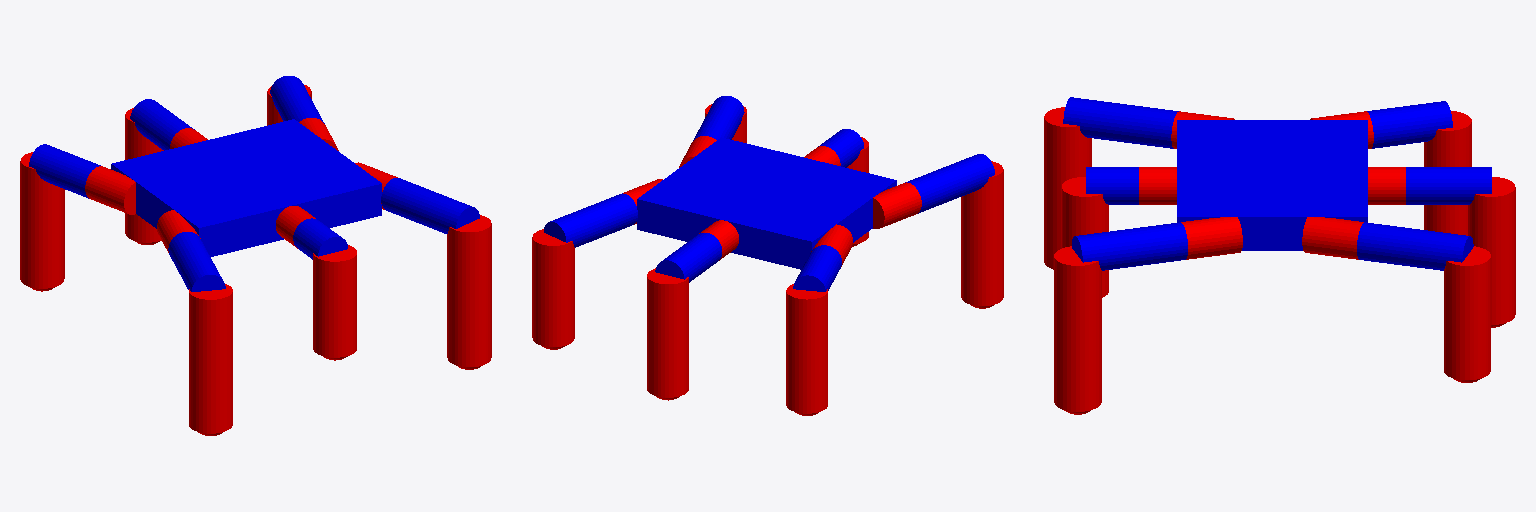
--- Render facts (derived) ---
3 views of the same robot in one strip: view 1: azimuth 30°, elevation 25°; view 2: azimuth 150°, elevation 25°; view 3: azimuth 270°, elevation 25° (orthographic).
Model pexod with 19 links and 18 joints (18 revolute), rooted at base_link, posed all joints at 0.
Visible links, largest first — view 1: base_link, leg_3_3, leg_5_3, leg_0_3, leg_4_3, leg_3_2, leg_5_2, leg_0_2, leg_0_1, leg_1_2, leg_1_3, leg_2_2 (+3 smaller); view 2: base_link, leg_5_3, leg_0_3, leg_1_3, leg_2_3, leg_2_2, leg_5_2, leg_1_2, leg_5_1, leg_0_2, leg_3_2, leg_4_2 (+2 smaller); view 3: base_link, leg_3_3, leg_2_3, leg_1_3, leg_5_3, leg_2_2, leg_3_2, leg_5_2, leg_0_3, leg_1_2, leg_0_2, leg_4_3 (+5 smaller).
Boxes of the visible links, x1,y1,x2,y2 form: base_link: [111, 119, 381, 256]; leg_3_3: [447, 215, 491, 369]; leg_5_3: [189, 284, 232, 435]; leg_0_3: [20, 152, 64, 291]; leg_4_3: [313, 245, 356, 360]; leg_3_2: [381, 178, 479, 233]; leg_5_2: [168, 232, 225, 291]; leg_0_2: [29, 144, 100, 198]; leg_0_1: [85, 166, 135, 214]; leg_1_2: [130, 99, 194, 150]; leg_1_3: [125, 108, 163, 244]; leg_2_2: [270, 76, 324, 123]; base_link: [637, 137, 896, 269]; leg_5_3: [961, 161, 1003, 308]; leg_0_3: [786, 284, 827, 415]; leg_1_3: [647, 268, 688, 400]; leg_2_3: [532, 229, 574, 349]; leg_2_2: [544, 193, 637, 247]; leg_5_2: [905, 154, 994, 213]; leg_1_2: [655, 233, 721, 282]; leg_5_1: [873, 182, 921, 228]; leg_0_2: [793, 245, 841, 291]; leg_3_2: [693, 96, 744, 140]; leg_4_2: [818, 129, 863, 167]; base_link: [1177, 120, 1367, 250]; leg_3_3: [1054, 246, 1101, 414]; leg_2_3: [1444, 246, 1490, 382]; leg_1_3: [1468, 177, 1515, 327]; leg_5_3: [1044, 107, 1091, 269]; leg_2_2: [1357, 222, 1473, 270]; leg_3_2: [1072, 222, 1187, 270]; leg_5_2: [1063, 97, 1178, 148]; leg_0_3: [1424, 111, 1471, 235]; leg_1_2: [1406, 167, 1491, 204]; leg_0_2: [1367, 101, 1452, 148]; leg_4_3: [1062, 177, 1108, 297].
Bounding box of the posed robot: 0.3946 × 0.4942 × 0.2014 m (x, y, z).
Geometry: primitives only (box / cylinder / sphere), no mesh files.

robot.urdf — pexod:
<?xml version="1.0" ?>
<!-- =================================================================================== -->
<!-- |    This document was autogenerated by xacro from pexod.xacro                    | -->
<!-- |    EDITING THIS FILE BY HAND IS NOT RECOMMENDED                                 | -->
<!-- =================================================================================== -->
<robot name="pexod" xmlns:xacro="http://www.ros.org/wiki/xacro">
  <!-- <xacro:include filename="$(find pexod_description)/urdf/pexod_control.xacro" /> -->
  <!-- MATERIALS -->
  <material name="Blue">
    <color rgba="0 0 1 1"/>
  </material>
  <material name="Red">
    <color rgba="1 0 0 1"/>
  </material>
  <material name="Green">
    <color rgba="0 1 0 1"/>
  </material>
  <material name="Yellow">
    <color rgba="1 1 0 1"/>
  </material>
  <material name="LightGrey">
    <color rgba="0.6 0.6 0.6 1.0"/>
  </material>
  <!-- END OF MATERIALS -->
  <!-- XACRO MACROS FOR VISUALS AND COLLISIONS -->
  <!-- END OF XACRO MACROS -->
  <!-- TORSO -->
  <link name="base_link">
    <visual>
      <origin rpy="0 0 0" xyz="0 0 0"/>
      <geometry>
        <box size="0.24 0.2 0.04"/>
      </geometry>
      <material name="Blue"/>
    </visual>
    <collision>
      <origin rpy="0 0 0" xyz="0 0 0"/>
      <geometry>
        <box size="0.24 0.2 0.04"/>
      </geometry>
    </collision>
    <inertial>
      <!-- CENTER OF MASS -->
      <origin rpy="0 0 0" xyz="0 0 0"/>
      <mass value="1.031"/>
      <!-- box inertia: 1/12*m(y^2+z^2), ... -->
      <inertia ixx="0.00357413333333" ixy="0" ixz="0" iyy="0.00508626666667" iyz="0" izz="0.00838546666667"/>
    </inertial>
  </link>
  <!-- XACRO MACRO FOR LEGS LINKS/JOINTS -->
  <!-- END OF LEG LINKS/JOINTS -->
  <joint name="body_leg_2" type="revolute">
    <parent link="base_link"/>
    <child link="leg_2_1"/>
    <limit effort="30.0" lower="-1.57079632679" upper="1.57079632679" velocity="7.0"/>
    <origin rpy="0 0 -0.3" xyz="0.11 0.04 0"/>
    <!-- <xacro:if value="${index == 5 or index == 4 or index == 3}">
                <axis xyz="0 0 1"/>
            </xacro:if>
            <xacro:if value="${index == 2 or index == 1 or index == 0}"> -->
    <axis xyz="0 0 1"/>
    <!-- </xacro:if> -->
    <dynamics damping="0.0"/>
  </joint>
  <link name="leg_2_1">
    <visual>
      <origin rpy="1.57079632679 0 0" xyz="0.01 0.03 0"/>
      <geometry>
        <cylinder length="0.06" radius="0.02"/>
      </geometry>
      <material name="Red"/>
    </visual>
    <collision>
      <origin rpy="1.57079632679 0 0" xyz="0.01 0.03 0"/>
      <geometry>
        <box size="0.02 0.02 0.06"/>
      </geometry>
    </collision>
    <inertial>
      <!-- CENTER OF MASS -->
      <origin rpy="1.57079632679 0 0" xyz="0.01 0.03 0"/>
      <mass value="0.02"/>
      <!-- box inertia: 1/12*m(y^2+z^2), ... -->
      <inertia ixx="6.66666666667e-06" ixy="0" ixz="0" iyy="6.66666666667e-06" iyz="0" izz="1.33333333333e-06"/>
    </inertial>
  </link>
  <joint name="leg_2_1_2" type="revolute">
    <parent link="leg_2_1"/>
    <child link="leg_2_2"/>
    <limit effort="30.0" lower="-0.78539816339" upper="0.78539816339" velocity="7.0"/>
    <origin rpy="0 0 0" xyz="0 0.06 0"/>
    <axis xyz="1 0 0"/>
    <dynamics damping="0.0"/>
  </joint>
  <link name="leg_2_2">
    <visual>
      <origin rpy="1.57079632679 0 0" xyz="0.01 0.057911748355 0"/>
      <geometry>
        <cylinder length="0.11582349671" radius="0.02"/>
      </geometry>
      <material name="Blue"/>
    </visual>
    <collision>
      <origin rpy="1.57079632679 0 0" xyz="0.01 0.057911748355 0"/>
      <geometry>
        <box size="0.02 0.02 0.11582349671"/>
      </geometry>
    </collision>
    <inertial>
      <!-- CENTER OF MASS -->
      <origin rpy="1.57079632679 0 0" xyz="0.01 0.057911748355 0"/>
      <mass value="0.184"/>
      <!-- box inertia: 1/12*m(y^2+z^2), ... -->
      <inertia ixx="0.000211831263315" ixy="0" ixz="0" iyy="0.000211831263315" iyz="0" izz="1.22666666667e-05"/>
    </inertial>
  </link>
  <joint name="leg_2_2_3" type="revolute">
    <parent link="leg_2_2"/>
    <child link="leg_2_3"/>
    <limit effort="30.0" lower="-0.78539816339" upper="0.78539816339" velocity="7.0"/>
    <origin rpy="-1.57079632679 0 0" xyz="0 0.11582349671 0"/>
    <axis xyz="-1 0 0"/>
    <dynamics damping="0.0"/>
  </joint>
  <link name="leg_2_3">
    <visual>
      <origin rpy="1.57079632679 0 0" xyz="0.0125 0.0662564448815 0"/>
      <geometry>
        <cylinder length="0.132512889763" radius="0.025"/>
      </geometry>
      <material name="Red"/>
    </visual>
    <visual>
      <origin rpy="1.57079632679 0 0" xyz="0.0125 0.120012889763 0"/>
      <geometry>
        <sphere radius="0.025"/>
      </geometry>
      <material name="Red"/>
    </visual>
    <collision>
      <origin rpy="1.57079632679 0 0" xyz="0.0125 0.0662564448815 0"/>
      <geometry>
        <box size="0.025 0.025 0.132512889763"/>
      </geometry>
    </collision>
    <collision>
      <origin rpy="1.57079632679 0 0" xyz="0.0125 0.120012889763 0"/>
      <geometry>
        <sphere radius="0.025"/>
      </geometry>
      <material name="Red"/>
    </collision>
    <inertial>
      <!-- CENTER OF MASS -->
      <origin rpy="1.57079632679 0 0" xyz="0.0125 0.0662564448815 0"/>
      <mass value="0.04"/>
      <!-- box inertia: 1/12*m(y^2+z^2), ... -->
      <inertia ixx="6.06155531778e-05" ixy="0" ixz="0" iyy="6.06155531778e-05" iyz="0" izz="4.16666666667e-06"/>
    </inertial>
  </link>
  <joint name="body_leg_3" type="revolute">
    <parent link="base_link"/>
    <child link="leg_3_1"/>
    <limit effort="30.0" lower="-1.57079632679" upper="1.57079632679" velocity="7.0"/>
    <origin rpy="0 0 0.3" xyz="0.11 -0.04 0"/>
    <!-- <xacro:if value="${index == 5 or index == 4 or index == 3}">
                <axis xyz="0 0 1"/>
            </xacro:if>
            <xacro:if value="${index == 2 or index == 1 or index == 0}"> -->
    <axis xyz="0 0 1"/>
    <!-- </xacro:if> -->
    <dynamics damping="0.0"/>
  </joint>
  <link name="leg_3_1">
    <visual>
      <origin rpy="1.57079632679 0 0" xyz="0.01 -0.03 0"/>
      <geometry>
        <cylinder length="0.06" radius="0.02"/>
      </geometry>
      <material name="Red"/>
    </visual>
    <collision>
      <origin rpy="1.57079632679 0 0" xyz="0.01 -0.03 0"/>
      <geometry>
        <box size="0.02 0.02 0.06"/>
      </geometry>
    </collision>
    <inertial>
      <!-- CENTER OF MASS -->
      <origin rpy="1.57079632679 0 0" xyz="0.01 -0.03 0"/>
      <mass value="0.02"/>
      <!-- box inertia: 1/12*m(y^2+z^2), ... -->
      <inertia ixx="6.66666666667e-06" ixy="0" ixz="0" iyy="6.66666666667e-06" iyz="0" izz="1.33333333333e-06"/>
    </inertial>
  </link>
  <joint name="leg_3_1_2" type="revolute">
    <parent link="leg_3_1"/>
    <child link="leg_3_2"/>
    <limit effort="30.0" lower="-0.78539816339" upper="0.78539816339" velocity="7.0"/>
    <origin rpy="0 0 0" xyz="0 -0.06 0"/>
    <axis xyz="-1 0 0"/>
    <dynamics damping="0.0"/>
  </joint>
  <link name="leg_3_2">
    <visual>
      <origin rpy="1.57079632679 0 0" xyz="0.01 -0.0578931832585 0"/>
      <geometry>
        <cylinder length="0.115786366517" radius="0.02"/>
      </geometry>
      <material name="Blue"/>
    </visual>
    <collision>
      <origin rpy="1.57079632679 0 0" xyz="0.01 -0.0578931832585 0"/>
      <geometry>
        <box size="0.02 0.02 0.115786366517"/>
      </geometry>
    </collision>
    <inertial>
      <!-- CENTER OF MASS -->
      <origin rpy="1.57079632679 0 0" xyz="0.01 -0.0578931832585 0"/>
      <mass value="0.184"/>
      <!-- box inertia: 1/12*m(y^2+z^2), ... -->
      <inertia ixx="0.000211699400959" ixy="0" ixz="0" iyy="0.000211699400959" iyz="0" izz="1.22666666667e-05"/>
    </inertial>
  </link>
  <joint name="leg_3_2_3" type="revolute">
    <parent link="leg_3_2"/>
    <child link="leg_3_3"/>
    <limit effort="30.0" lower="-0.78539816339" upper="0.78539816339" velocity="7.0"/>
    <origin rpy="1.57079632679 0 0" xyz="0 -0.115786366517 0"/>
    <axis xyz="1 0 0"/>
    <dynamics damping="0.0"/>
  </joint>
  <link name="leg_3_3">
    <visual>
      <origin rpy="1.57079632679 0 0" xyz="0.0125 -0.084473173369 0"/>
      <geometry>
        <cylinder length="0.168946346738" radius="0.025"/>
      </geometry>
      <material name="Red"/>
    </visual>
    <visual>
      <origin rpy="1.57079632679 0 0" xyz="0.0125 -0.156446346738 0"/>
      <geometry>
        <sphere radius="0.025"/>
      </geometry>
      <material name="Red"/>
    </visual>
    <collision>
      <origin rpy="1.57079632679 0 0" xyz="0.0125 -0.084473173369 0"/>
      <geometry>
        <box size="0.025 0.025 0.168946346738"/>
      </geometry>
    </collision>
    <collision>
      <origin rpy="1.57079632679 0 0" xyz="0.0125 -0.156446346738 0"/>
      <geometry>
        <sphere radius="0.025"/>
      </geometry>
      <material name="Red"/>
    </collision>
    <inertial>
      <!-- CENTER OF MASS -->
      <origin rpy="1.57079632679 0 0" xyz="0.0125 -0.084473173369 0"/>
      <mass value="0.04"/>
      <!-- box inertia: 1/12*m(y^2+z^2), ... -->
      <inertia ixx="9.72262269204e-05" ixy="0" ixz="0" iyy="9.72262269204e-05" iyz="0" izz="4.16666666667e-06"/>
    </inertial>
  </link>
  <joint name="body_leg_0" type="revolute">
    <parent link="base_link"/>
    <child link="leg_0_1"/>
    <limit effort="30.0" lower="-1.57079632679" upper="1.57079632679" velocity="7.0"/>
    <origin rpy="0 0 0.3" xyz="-0.13 0.04 0"/>
    <!-- <xacro:if value="${index == 5 or index == 4 or index == 3}">
                <axis xyz="0 0 1"/>
            </xacro:if>
            <xacro:if value="${index == 2 or index == 1 or index == 0}"> -->
    <axis xyz="0 0 1"/>
    <!-- </xacro:if> -->
    <dynamics damping="0.0"/>
  </joint>
  <link name="leg_0_1">
    <visual>
      <origin rpy="1.57079632679 0 0" xyz="0.01 0.03 0"/>
      <geometry>
        <cylinder length="0.06" radius="0.02"/>
      </geometry>
      <material name="Red"/>
    </visual>
    <collision>
      <origin rpy="1.57079632679 0 0" xyz="0.01 0.03 0"/>
      <geometry>
        <box size="0.02 0.02 0.06"/>
      </geometry>
    </collision>
    <inertial>
      <!-- CENTER OF MASS -->
      <origin rpy="1.57079632679 0 0" xyz="0.01 0.03 0"/>
      <mass value="0.02"/>
      <!-- box inertia: 1/12*m(y^2+z^2), ... -->
      <inertia ixx="6.66666666667e-06" ixy="0" ixz="0" iyy="6.66666666667e-06" iyz="0" izz="1.33333333333e-06"/>
    </inertial>
  </link>
  <joint name="leg_0_1_2" type="revolute">
    <parent link="leg_0_1"/>
    <child link="leg_0_2"/>
    <limit effort="30.0" lower="-0.78539816339" upper="0.78539816339" velocity="7.0"/>
    <origin rpy="0 0 0" xyz="0 0.06 0"/>
    <axis xyz="1 0 0"/>
    <dynamics damping="0.0"/>
  </joint>
  <link name="leg_0_2">
    <visual>
      <origin rpy="1.57079632679 0 0" xyz="0.01 0.0434274066274 0"/>
      <geometry>
        <cylinder length="0.0868548132548" radius="0.02"/>
      </geometry>
      <material name="Blue"/>
    </visual>
    <collision>
      <origin rpy="1.57079632679 0 0" xyz="0.01 0.0434274066274 0"/>
      <geometry>
        <box size="0.02 0.02 0.0868548132548"/>
      </geometry>
    </collision>
    <inertial>
      <!-- CENTER OF MASS -->
      <origin rpy="1.57079632679 0 0" xyz="0.01 0.0434274066274 0"/>
      <mass value="0.184"/>
      <!-- box inertia: 1/12*m(y^2+z^2), ... -->
      <inertia ixx="0.000121804298311" ixy="0" ixz="0" iyy="0.000121804298311" iyz="0" izz="1.22666666667e-05"/>
    </inertial>
  </link>
  <joint name="leg_0_2_3" type="revolute">
    <parent link="leg_0_2"/>
    <child link="leg_0_3"/>
    <limit effort="30.0" lower="-0.78539816339" upper="0.78539816339" velocity="7.0"/>
    <origin rpy="-1.57079632679 0 0" xyz="0 0.0868548132548 0"/>
    <axis xyz="-1 0 0"/>
    <dynamics damping="0.0"/>
  </joint>
  <link name="leg_0_3">
    <visual>
      <origin rpy="1.57079632679 0 0" xyz="0.0125 0.074608938727 0"/>
      <geometry>
        <cylinder length="0.149217877454" radius="0.025"/>
      </geometry>
      <material name="Red"/>
    </visual>
    <visual>
      <origin rpy="1.57079632679 0 0" xyz="0.0125 0.136717877454 0"/>
      <geometry>
        <sphere radius="0.025"/>
      </geometry>
      <material name="Red"/>
    </visual>
    <collision>
      <origin rpy="1.57079632679 0 0" xyz="0.0125 0.074608938727 0"/>
      <geometry>
        <box size="0.025 0.025 0.149217877454"/>
      </geometry>
    </collision>
    <collision>
      <origin rpy="1.57079632679 0 0" xyz="0.0125 0.136717877454 0"/>
      <geometry>
        <sphere radius="0.025"/>
      </geometry>
      <material name="Red"/>
    </collision>
    <inertial>
      <!-- CENTER OF MASS -->
      <origin rpy="1.57079632679 0 0" xyz="0.0125 0.074608938727 0"/>
      <mass value="0.04"/>
      <!-- box inertia: 1/12*m(y^2+z^2), ... -->
      <inertia ixx="7.63032498396e-05" ixy="0" ixz="0" iyy="7.63032498396e-05" iyz="0" izz="4.16666666667e-06"/>
    </inertial>
  </link>
  <joint name="body_leg_5" type="revolute">
    <parent link="base_link"/>
    <child link="leg_5_1"/>
    <limit effort="30.0" lower="-1.57079632679" upper="1.57079632679" velocity="7.0"/>
    <origin rpy="0 0 -0.3" xyz="-0.13 -0.04 0"/>
    <!-- <xacro:if value="${index == 5 or index == 4 or index == 3}">
                <axis xyz="0 0 1"/>
            </xacro:if>
            <xacro:if value="${index == 2 or index == 1 or index == 0}"> -->
    <axis xyz="0 0 1"/>
    <!-- </xacro:if> -->
    <dynamics damping="0.0"/>
  </joint>
  <link name="leg_5_1">
    <visual>
      <origin rpy="1.57079632679 0 0" xyz="0.01 -0.03 0"/>
      <geometry>
        <cylinder length="0.06" radius="0.02"/>
      </geometry>
      <material name="Red"/>
    </visual>
    <collision>
      <origin rpy="1.57079632679 0 0" xyz="0.01 -0.03 0"/>
      <geometry>
        <box size="0.02 0.02 0.06"/>
      </geometry>
    </collision>
    <inertial>
      <!-- CENTER OF MASS -->
      <origin rpy="1.57079632679 0 0" xyz="0.01 -0.03 0"/>
      <mass value="0.02"/>
      <!-- box inertia: 1/12*m(y^2+z^2), ... -->
      <inertia ixx="6.66666666667e-06" ixy="0" ixz="0" iyy="6.66666666667e-06" iyz="0" izz="1.33333333333e-06"/>
    </inertial>
  </link>
  <joint name="leg_5_1_2" type="revolute">
    <parent link="leg_5_1"/>
    <child link="leg_5_2"/>
    <limit effort="30.0" lower="-0.78539816339" upper="0.78539816339" velocity="7.0"/>
    <origin rpy="0 0 0" xyz="0 -0.06 0"/>
    <axis xyz="-1 0 0"/>
    <dynamics damping="0.0"/>
  </joint>
  <link name="leg_5_2">
    <visual>
      <origin rpy="1.57079632679 0 0" xyz="0.01 -0.0593575693555 0"/>
      <geometry>
        <cylinder length="0.118715138711" radius="0.02"/>
      </geometry>
      <material name="Blue"/>
    </visual>
    <collision>
      <origin rpy="1.57079632679 0 0" xyz="0.01 -0.0593575693555 0"/>
      <geometry>
        <box size="0.02 0.02 0.118715138711"/>
      </geometry>
    </collision>
    <inertial>
      <!-- CENTER OF MASS -->
      <origin rpy="1.57079632679 0 0" xyz="0.01 -0.0593575693555 0"/>
      <mass value="0.184"/>
      <!-- box inertia: 1/12*m(y^2+z^2), ... -->
      <inertia ixx="0.000222230357107" ixy="0" ixz="0" iyy="0.000222230357107" iyz="0" izz="1.22666666667e-05"/>
    </inertial>
  </link>
  <joint name="leg_5_2_3" type="revolute">
    <parent link="leg_5_2"/>
    <child link="leg_5_3"/>
    <limit effort="30.0" lower="-0.78539816339" upper="0.78539816339" velocity="7.0"/>
    <origin rpy="1.57079632679 0 0" xyz="0 -0.118715138711 0"/>
    <axis xyz="1 0 0"/>
    <dynamics damping="0.0"/>
  </joint>
  <link name="leg_5_3">
    <visual>
      <origin rpy="1.57079632679 0 0" xyz="0.0125 -0.0837819628235 0"/>
      <geometry>
        <cylinder length="0.167563925647" radius="0.025"/>
      </geometry>
      <material name="Red"/>
    </visual>
    <visual>
      <origin rpy="1.57079632679 0 0" xyz="0.0125 -0.155063925647 0"/>
      <geometry>
        <sphere radius="0.025"/>
      </geometry>
      <material name="Red"/>
    </visual>
    <collision>
      <origin rpy="1.57079632679 0 0" xyz="0.0125 -0.0837819628235 0"/>
      <geometry>
        <box size="0.025 0.025 0.167563925647"/>
      </geometry>
    </collision>
    <collision>
      <origin rpy="1.57079632679 0 0" xyz="0.0125 -0.155063925647 0"/>
      <geometry>
        <sphere radius="0.025"/>
      </geometry>
      <material name="Red"/>
    </collision>
    <inertial>
      <!-- CENTER OF MASS -->
      <origin rpy="1.57079632679 0 0" xyz="0.0125 -0.0837819628235 0"/>
      <mass value="0.04"/>
      <!-- box inertia: 1/12*m(y^2+z^2), ... -->
      <inertia ixx="9.56755639274e-05" ixy="0" ixz="0" iyy="9.56755639274e-05" iyz="0" izz="4.16666666667e-06"/>
    </inertial>
  </link>
  <joint name="body_leg_1" type="revolute">
    <parent link="base_link"/>
    <child link="leg_1_1"/>
    <limit effort="30.0" lower="-1.57079632679" upper="1.57079632679" velocity="7.0"/>
    <origin rpy="0 0 0" xyz="-0.01 0.08 0"/>
    <!-- <xacro:if value="${index == 5 or index == 4 or index == 3}">
                <axis xyz="0 0 1"/>
            </xacro:if>
            <xacro:if value="${index == 2 or index == 1 or index == 0}"> -->
    <axis xyz="0 0 1"/>
    <!-- </xacro:if> -->
    <dynamics damping="0.0"/>
  </joint>
  <link name="leg_1_1">
    <visual>
      <origin rpy="1.57079632679 0 0" xyz="0.01 0.03 0"/>
      <geometry>
        <cylinder length="0.06" radius="0.02"/>
      </geometry>
      <material name="Red"/>
    </visual>
    <collision>
      <origin rpy="1.57079632679 0 0" xyz="0.01 0.03 0"/>
      <geometry>
        <box size="0.02 0.02 0.06"/>
      </geometry>
    </collision>
    <inertial>
      <!-- CENTER OF MASS -->
      <origin rpy="1.57079632679 0 0" xyz="0.01 0.03 0"/>
      <mass value="0.02"/>
      <!-- box inertia: 1/12*m(y^2+z^2), ... -->
      <inertia ixx="6.66666666667e-06" ixy="0" ixz="0" iyy="6.66666666667e-06" iyz="0" izz="1.33333333333e-06"/>
    </inertial>
  </link>
  <joint name="leg_1_1_2" type="revolute">
    <parent link="leg_1_1"/>
    <child link="leg_1_2"/>
    <limit effort="30.0" lower="-0.78539816339" upper="0.78539816339" velocity="7.0"/>
    <origin rpy="0 0 0" xyz="0 0.06 0"/>
    <axis xyz="1 0 0"/>
    <dynamics damping="0.0"/>
  </joint>
  <link name="leg_1_2">
    <visual>
      <origin rpy="1.57079632679 0 0" xyz="0.01 0.0449315056685 0"/>
      <geometry>
        <cylinder length="0.089863011337" radius="0.02"/>
      </geometry>
      <material name="Blue"/>
    </visual>
    <collision>
      <origin rpy="1.57079632679 0 0" xyz="0.01 0.0449315056685 0"/>
      <geometry>
        <box size="0.02 0.02 0.089863011337"/>
      </geometry>
    </collision>
    <inertial>
      <!-- CENTER OF MASS -->
      <origin rpy="1.57079632679 0 0" xyz="0.01 0.0449315056685 0"/>
      <mass value="0.184"/>
      <!-- box inertia: 1/12*m(y^2+z^2), ... -->
      <inertia ixx="0.000129955532367" ixy="0" ixz="0" iyy="0.000129955532367" iyz="0" izz="1.22666666667e-05"/>
    </inertial>
  </link>
  <joint name="leg_1_2_3" type="revolute">
    <parent link="leg_1_2"/>
    <child link="leg_1_3"/>
    <limit effort="30.0" lower="-0.78539816339" upper="0.78539816339" velocity="7.0"/>
    <origin rpy="-1.57079632679 0 0" xyz="0 0.089863011337 0"/>
    <axis xyz="-1 0 0"/>
    <dynamics damping="0.0"/>
  </joint>
  <link name="leg_1_3">
    <visual>
      <origin rpy="1.57079632679 0 0" xyz="0.0125 0.0741381419415 0"/>
      <geometry>
        <cylinder length="0.148276283883" radius="0.025"/>
      </geometry>
      <material name="Red"/>
    </visual>
    <visual>
      <origin rpy="1.57079632679 0 0" xyz="0.0125 0.135776283883 0"/>
      <geometry>
        <sphere radius="0.025"/>
      </geometry>
      <material name="Red"/>
    </visual>
    <collision>
      <origin rpy="1.57079632679 0 0" xyz="0.0125 0.0741381419415 0"/>
      <geometry>
        <box size="0.025 0.025 0.148276283883"/>
      </geometry>
    </collision>
    <collision>
      <origin rpy="1.57079632679 0 0" xyz="0.0125 0.135776283883 0"/>
      <geometry>
        <sphere radius="0.025"/>
      </geometry>
      <material name="Red"/>
    </collision>
    <inertial>
      <!-- CENTER OF MASS -->
      <origin rpy="1.57079632679 0 0" xyz="0.0125 0.0741381419415 0"/>
      <mass value="0.04"/>
      <!-- box inertia: 1/12*m(y^2+z^2), ... -->
      <inertia ixx="7.53695212072e-05" ixy="0" ixz="0" iyy="7.53695212072e-05" iyz="0" izz="4.16666666667e-06"/>
    </inertial>
  </link>
  <joint name="body_leg_4" type="revolute">
    <parent link="base_link"/>
    <child link="leg_4_1"/>
    <limit effort="30.0" lower="-1.57079632679" upper="1.57079632679" velocity="7.0"/>
    <origin rpy="0 0 0" xyz="-0.01 -0.08 0"/>
    <!-- <xacro:if value="${index == 5 or index == 4 or index == 3}">
                <axis xyz="0 0 1"/>
            </xacro:if>
            <xacro:if value="${index == 2 or index == 1 or index == 0}"> -->
    <axis xyz="0 0 1"/>
    <!-- </xacro:if> -->
    <dynamics damping="0.0"/>
  </joint>
  <link name="leg_4_1">
    <visual>
      <origin rpy="1.57079632679 0 0" xyz="0.01 -0.03 0"/>
      <geometry>
        <cylinder length="0.06" radius="0.02"/>
      </geometry>
      <material name="Red"/>
    </visual>
    <collision>
      <origin rpy="1.57079632679 0 0" xyz="0.01 -0.03 0"/>
      <geometry>
        <box size="0.02 0.02 0.06"/>
      </geometry>
    </collision>
    <inertial>
      <!-- CENTER OF MASS -->
      <origin rpy="1.57079632679 0 0" xyz="0.01 -0.03 0"/>
      <mass value="0.02"/>
      <!-- box inertia: 1/12*m(y^2+z^2), ... -->
      <inertia ixx="6.66666666667e-06" ixy="0" ixz="0" iyy="6.66666666667e-06" iyz="0" izz="1.33333333333e-06"/>
    </inertial>
  </link>
  <joint name="leg_4_1_2" type="revolute">
    <parent link="leg_4_1"/>
    <child link="leg_4_2"/>
    <limit effort="30.0" lower="-0.78539816339" upper="0.78539816339" velocity="7.0"/>
    <origin rpy="0 0 0" xyz="0 -0.06 0"/>
    <axis xyz="-1 0 0"/>
    <dynamics damping="0.0"/>
  </joint>
  <link name="leg_4_2">
    <visual>
      <origin rpy="1.57079632679 0 0" xyz="0.01 -0.0281399698944 0"/>
      <geometry>
        <cylinder length="0.0562799397887" radius="0.02"/>
      </geometry>
      <material name="Blue"/>
    </visual>
    <collision>
      <origin rpy="1.57079632679 0 0" xyz="0.01 -0.0281399698944 0"/>
      <geometry>
        <box size="0.02 0.02 0.0562799397887"/>
      </geometry>
    </collision>
    <inertial>
      <!-- CENTER OF MASS -->
      <origin rpy="1.57079632679 0 0" xyz="0.01 -0.0281399698944 0"/>
      <mass value="0.184"/>
      <!-- box inertia: 1/12*m(y^2+z^2), ... -->
      <inertia ixx="5.47006182135e-05" ixy="0" ixz="0" iyy="5.47006182135e-05" iyz="0" izz="1.22666666667e-05"/>
    </inertial>
  </link>
  <joint name="leg_4_2_3" type="revolute">
    <parent link="leg_4_2"/>
    <child link="leg_4_3"/>
    <limit effort="30.0" lower="-0.78539816339" upper="0.78539816339" velocity="7.0"/>
    <origin rpy="1.57079632679 0 0" xyz="0 -0.0562799397887 0"/>
    <axis xyz="1 0 0"/>
    <dynamics damping="0.0"/>
  </joint>
  <link name="leg_4_3">
    <visual>
      <origin rpy="1.57079632679 0 0" xyz="0.0125 -0.0601304875515 0"/>
      <geometry>
        <cylinder length="0.120260975103" radius="0.025"/>
      </geometry>
      <material name="Red"/>
    </visual>
    <visual>
      <origin rpy="1.57079632679 0 0" xyz="0.0125 -0.107760975103 0"/>
      <geometry>
        <sphere radius="0.025"/>
      </geometry>
      <material name="Red"/>
    </visual>
    <collision>
      <origin rpy="1.57079632679 0 0" xyz="0.0125 -0.0601304875515 0"/>
      <geometry>
        <box size="0.025 0.025 0.120260975103"/>
      </geometry>
    </collision>
    <collision>
      <origin rpy="1.57079632679 0 0" xyz="0.0125 -0.107760975103 0"/>
      <geometry>
        <sphere radius="0.025"/>
      </geometry>
      <material name="Red"/>
    </collision>
    <inertial>
      <!-- CENTER OF MASS -->
      <origin rpy="1.57079632679 0 0" xyz="0.0125 -0.0601304875515 0"/>
      <mass value="0.04"/>
      <!-- box inertia: 1/12*m(y^2+z^2), ... -->
      <inertia ixx="5.02923404424e-05" ixy="0" ixz="0" iyy="5.02923404424e-05" iyz="0" izz="4.16666666667e-06"/>
    </inertial>
  </link>
  <!-- END OF LEG LINKS/JOINTS -->
</robot>
